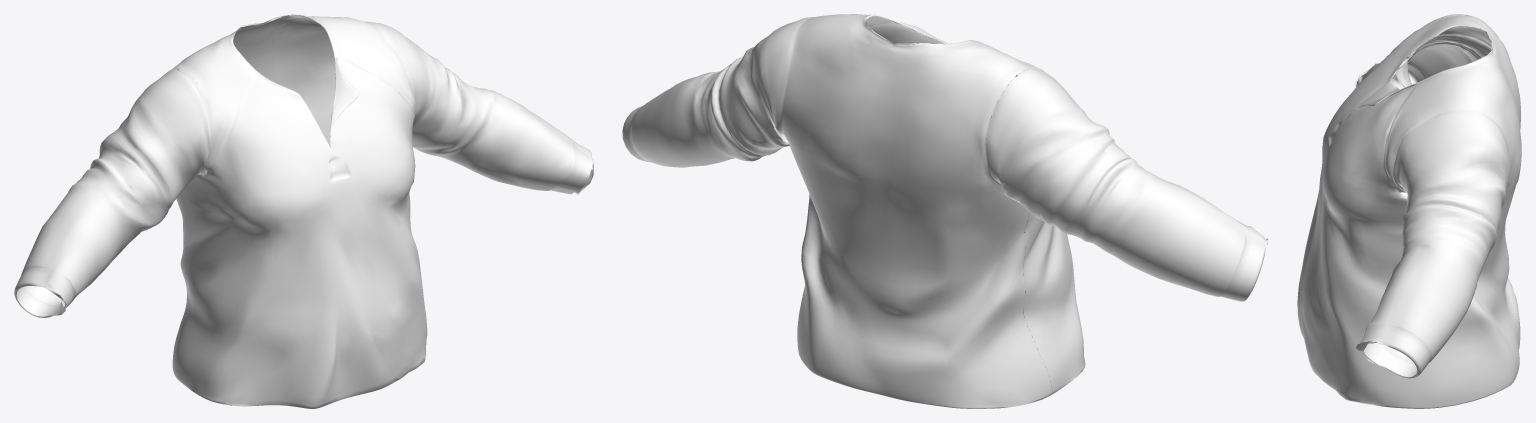
The model's file is LongSleeve.glb.
3 renders of one model, left to right at view 1: azimuth 30°, elevation 25°; view 2: azimuth 150°, elevation 25°; view 3: azimuth 270°, elevation 25°, orthographic. The views are drawn at different scales.
Visible parts, largest first — view 1: Newport_Shirt_10879; view 2: Newport_Shirt_10879; view 3: Newport_Shirt_10879.
Part boxes in pixels (x1,y1,x2,y2): Newport_Shirt_10879: (14, 14, 593, 408); Newport_Shirt_10879: (622, 14, 1267, 408); Newport_Shirt_10879: (1297, 14, 1521, 408).
Bounding box in the file's own units: 22.34 × 11.78 × 7.61.
Materials: 1 (1 with a texture image).
